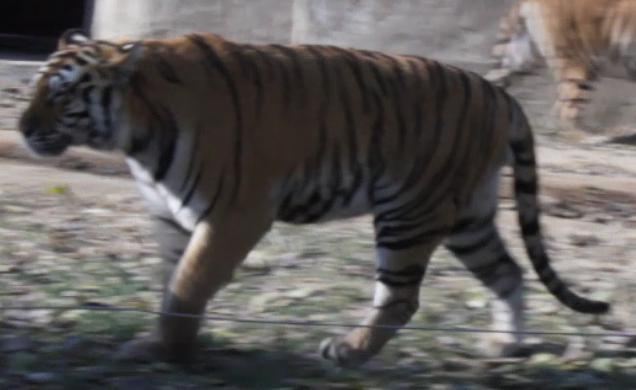tiger: (18, 30, 608, 365)
